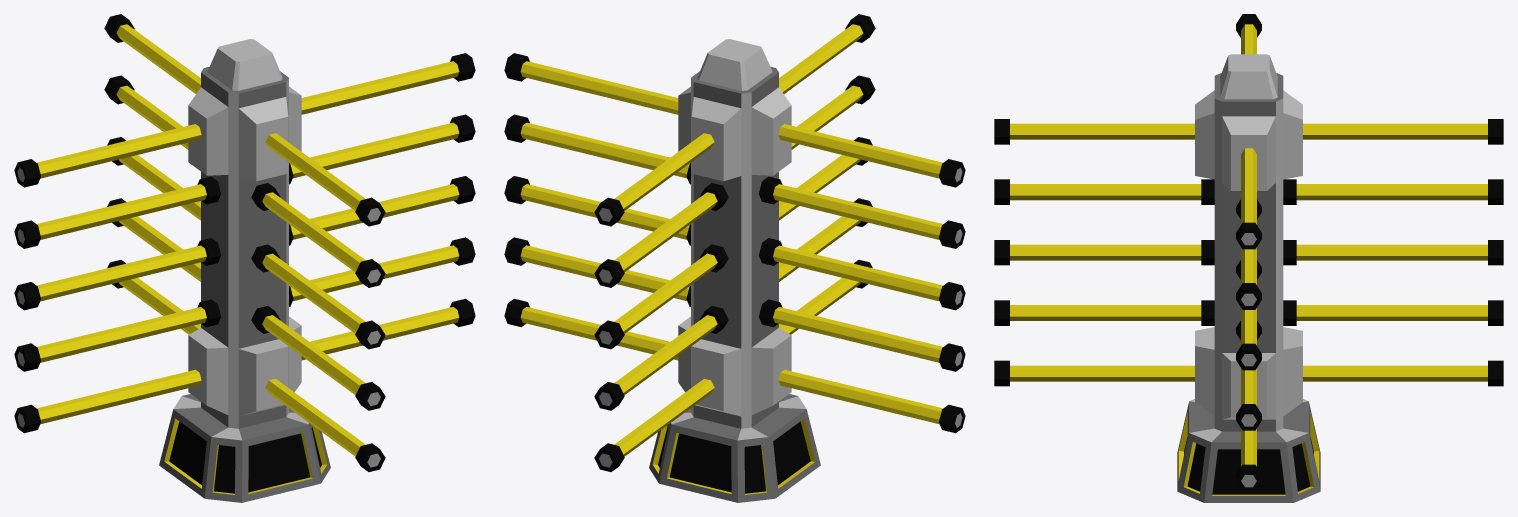
The model's file is Wall4 (4).fbx.
3 renders of one model, left to right at view 1: azimuth 30°, elevation 25°; view 2: azimuth 150°, elevation 25°; view 3: azimuth 270°, elevation 25°, orthographic.
Visible parts, largest first — view 1: Plane.001; view 2: Plane.001; view 3: Plane.001.
Part boxes in pixels (x1,y1,x2,y2): Plane.001: (14, 14, 475, 502); Plane.001: (504, 14, 965, 502); Plane.001: (994, 14, 1503, 502).
Bounding box in the file's own units: 183 × 162 × 183.
